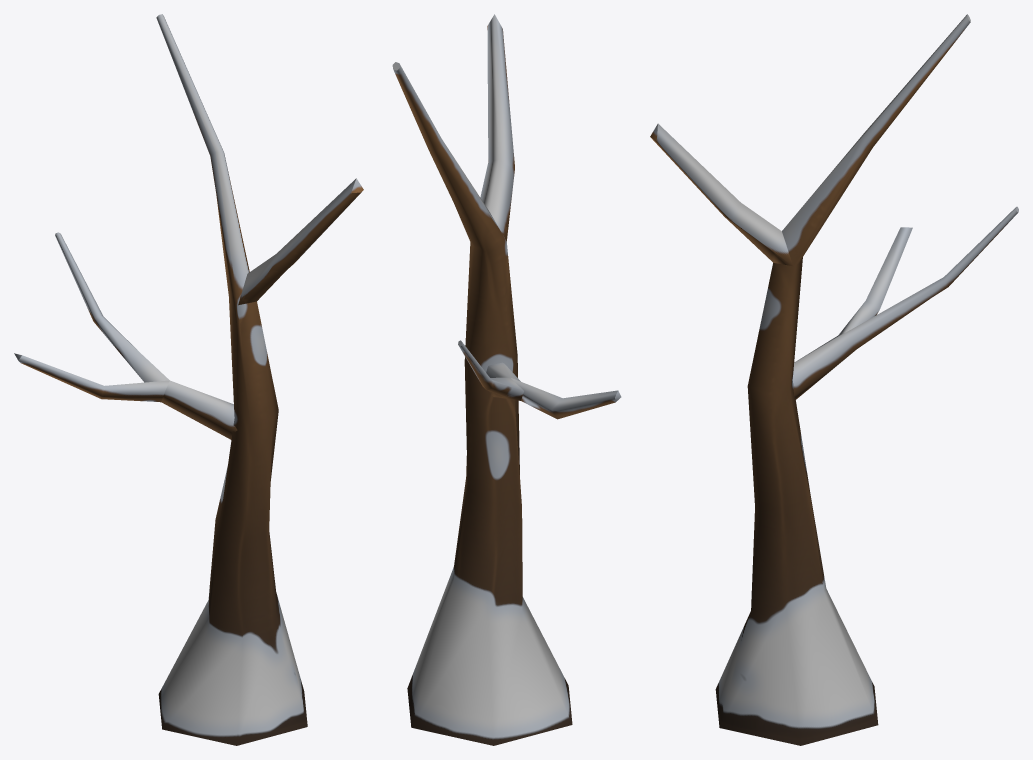
Rendered from Tree_A_3.fbx.
The picture shows the model from 3 angles, left to right: view 1: azimuth 30°, elevation 25°; view 2: azimuth 150°, elevation 25°; view 3: azimuth 270°, elevation 25°; orthographic projection. The views are drawn at different scales.
Parts seen in each view (by area): view 1: Tree_A_3; view 2: Tree_A_3; view 3: Tree_A_3.
Boxes of the visible parts, x1,y1,x2,y2 form: Tree_A_3: [14, 14, 363, 745]; Tree_A_3: [392, 14, 621, 745]; Tree_A_3: [650, 14, 1018, 745].
Bounding box in the file's own units: 150 × 382 × 184.
Materials: 1 (1 with a texture image).
